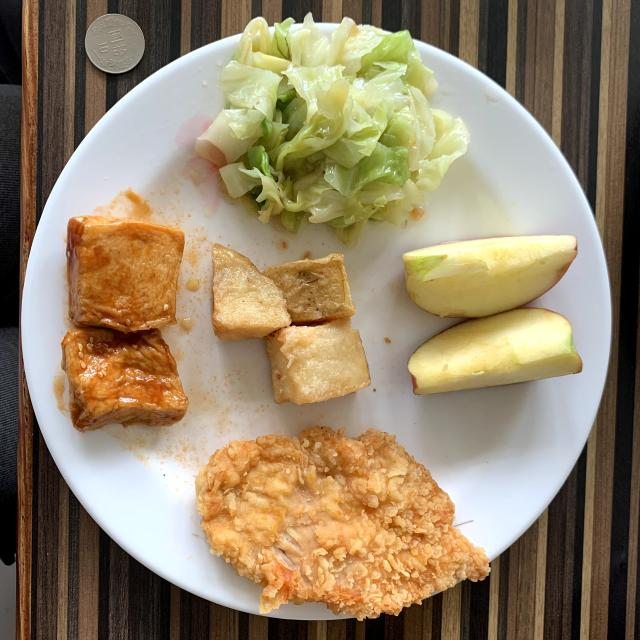apple -sliced-: (402, 235, 582, 395)
cabbage: (195, 15, 469, 241)
coin: (85, 14, 145, 74)
creamy tofu: (61, 216, 188, 431)
fried chicken cutlet: (196, 426, 489, 620)
fried potato: (212, 244, 370, 404)
